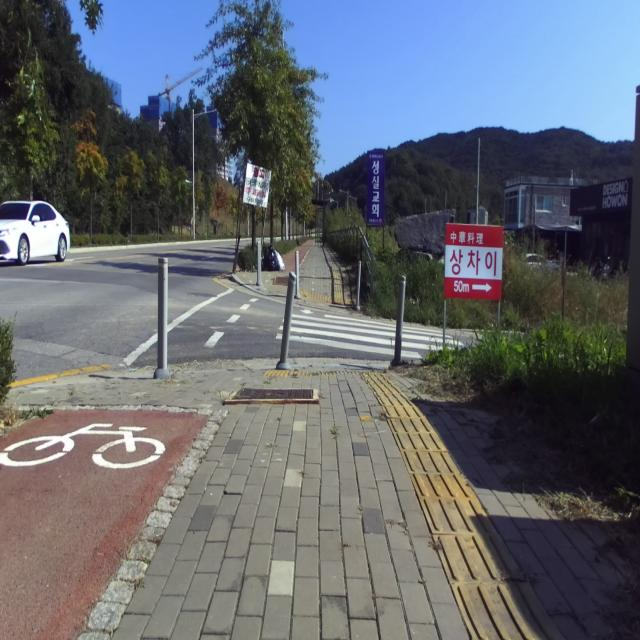횡단보도: (276, 309, 465, 358)
